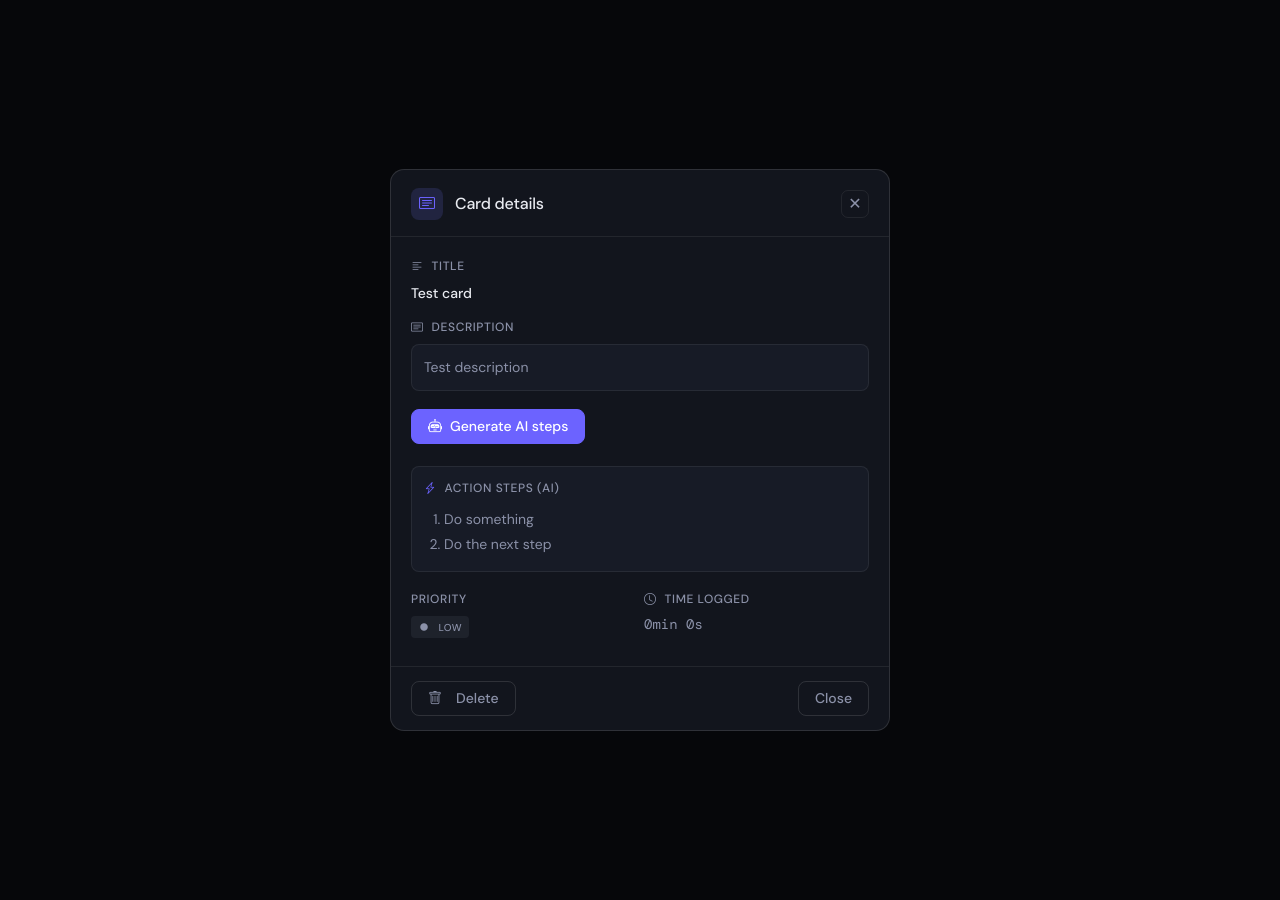
Test: TaskModal › shows an error when AI returns no valid steps
Click the button "Generate AI steps": (498, 427) [411, 409, 585, 444]
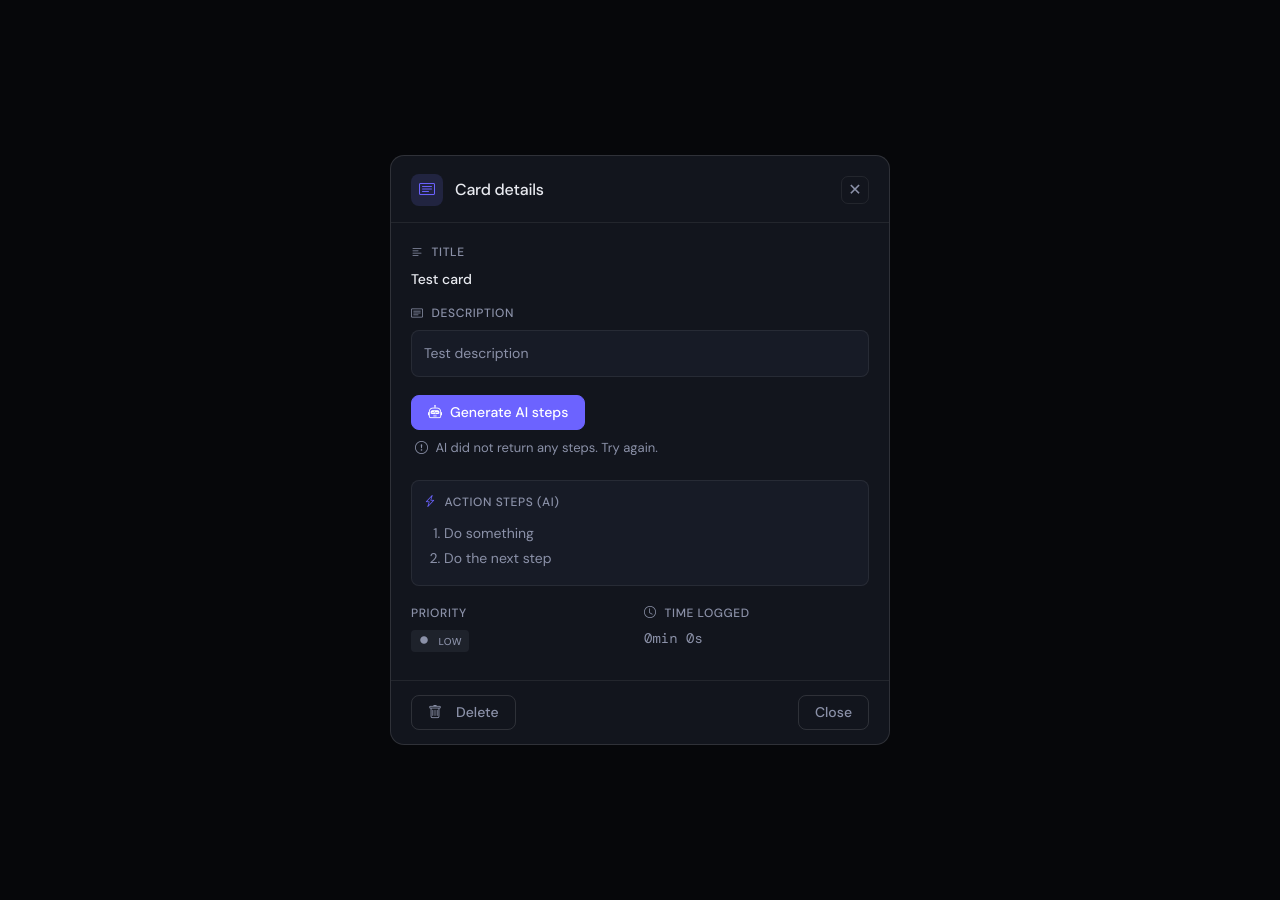
Expected: the text "AI did not return any steps. Try again." is shown, [415, 439, 658, 456]
